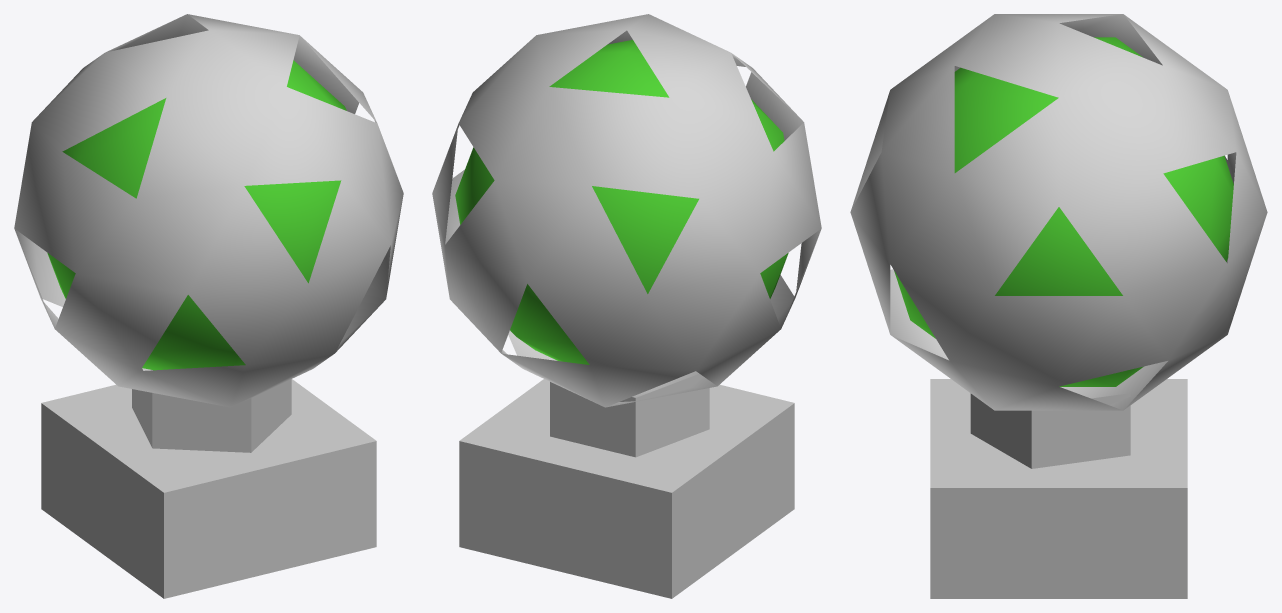
File: Discoball01.fbx
The picture shows the model from 3 angles, left to right: view 1: azimuth 30°, elevation 25°; view 2: azimuth 150°, elevation 25°; view 3: azimuth 270°, elevation 25°; orthographic projection. The views are drawn at different scales.
Visible parts, largest first — view 1: Cube.002, Cube, Cube.001; view 2: Cube.002, Cube, Cube.001; view 3: Cube.002, Cube, Cube.001.
Boxes of the visible parts, x1=… form: Cube.002: x1=14, y1=14, x2=403, y2=407; Cube: x1=41, y1=368, x2=376, y2=598; Cube.001: x1=47, y1=60, x2=346, y2=370; Cube.002: x1=432, y1=14, x2=821, y2=407; Cube: x1=459, y1=374, x2=794, y2=598; Cube.001: x1=455, y1=40, x2=788, y2=364; Cube.002: x1=850, y1=14, x2=1267, y2=410; Cube: x1=930, y1=379, x2=1187, y2=598; Cube.001: x1=894, y1=37, x2=1233, y2=386.
Size of the model in its own units: 0.2308 by 0.3346 by 0.2427.
